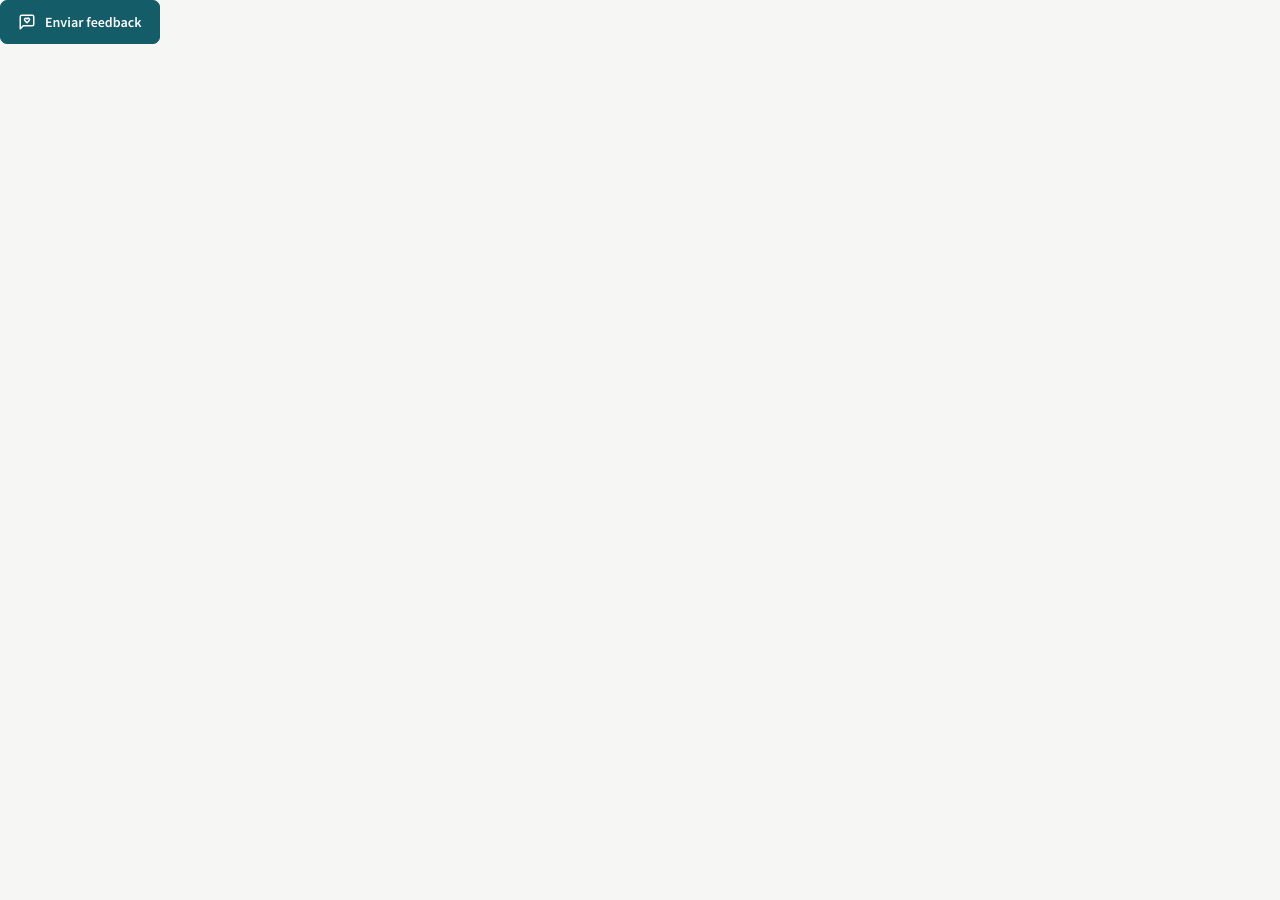
sends candidate feedback with the selected application and confirms receipt
The image size is (1280, 900).
Click the button "Enviar feedback" at {"x": 80, "y": 22}, box [0,0,160,44]
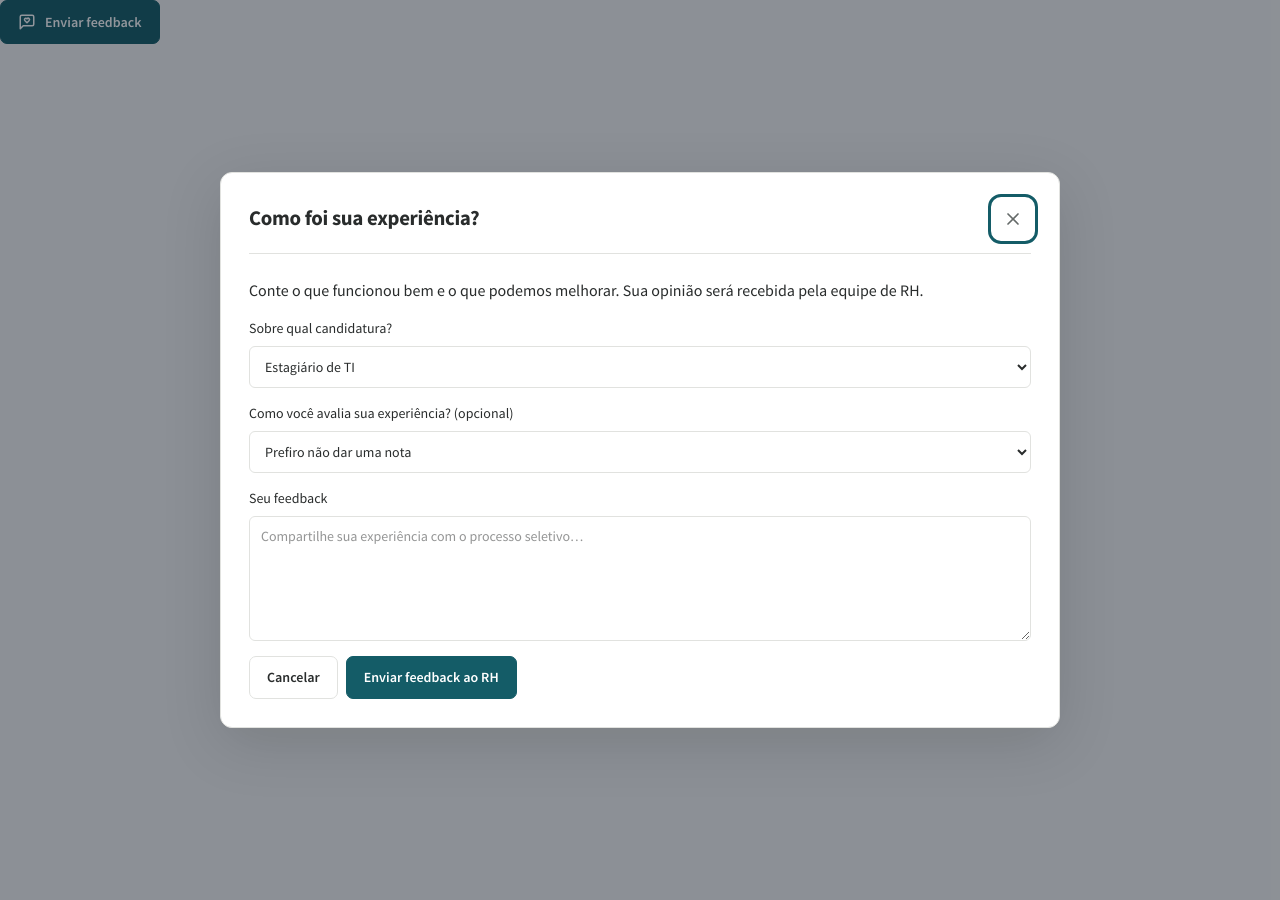
Type "Gostei das orientações recebidas durante o processo." into the text box labelled "Seu feedback" at {"x": 640, "y": 578}, box [249,516,1031,641]
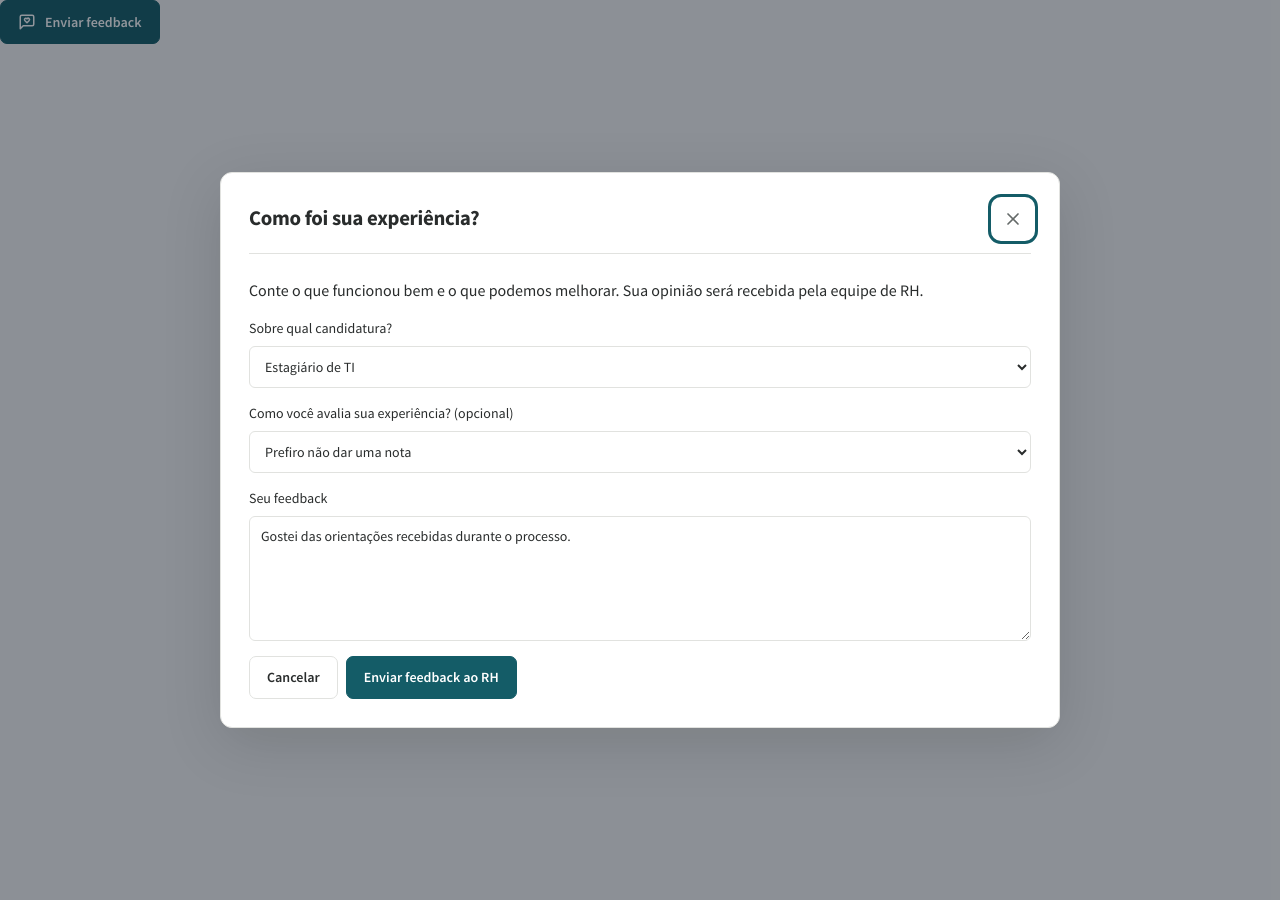
Click the button "Enviar feedback ao RH" at {"x": 431, "y": 678}, box [346,656,517,699]
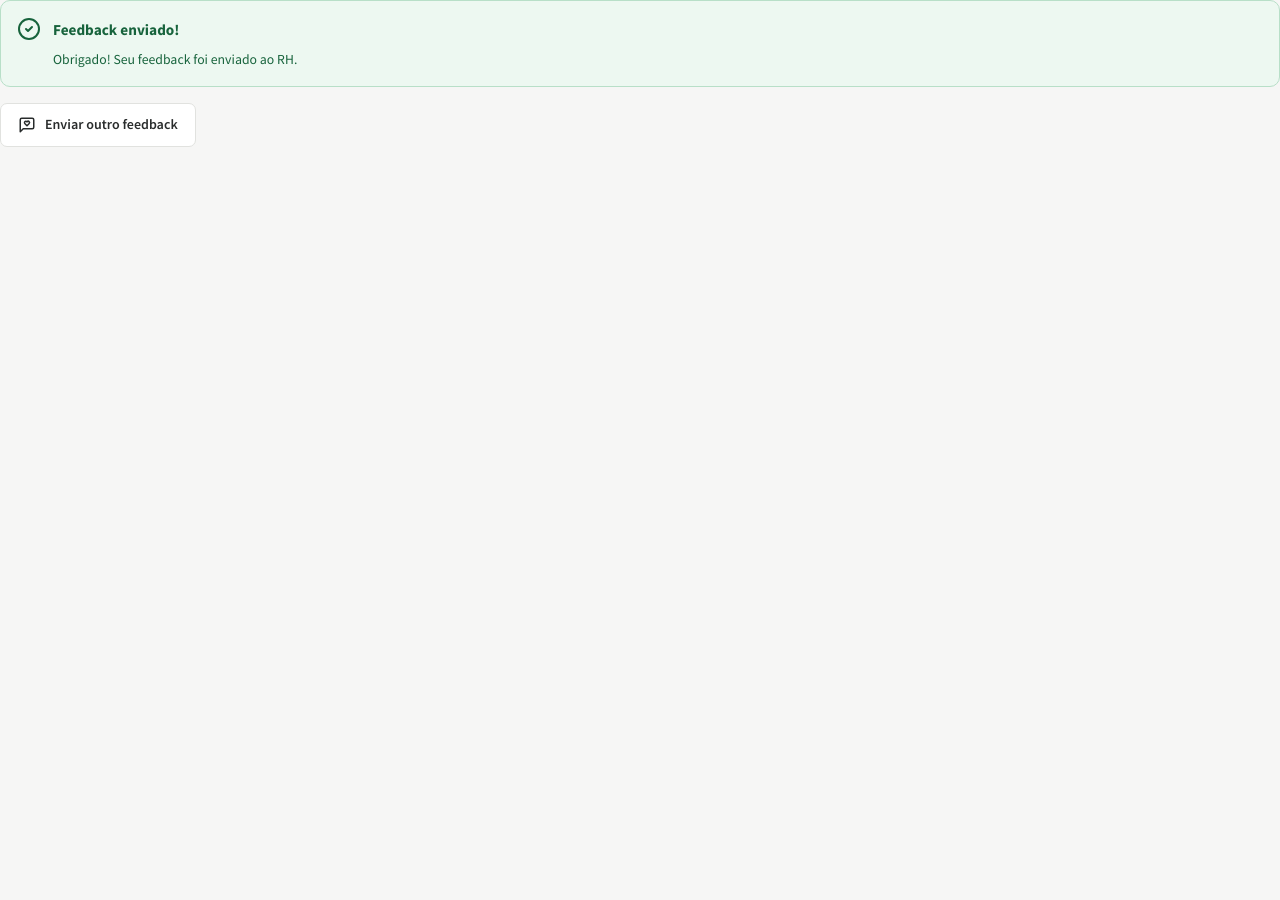
Now the message shows "Seu feedback foi enviado ao RH", box [53,50,297,68]
